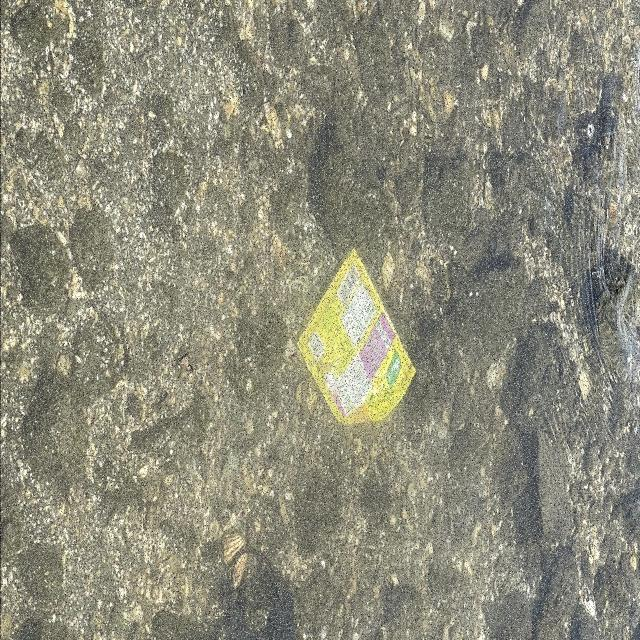plastic_waste: (297, 245, 417, 425)
